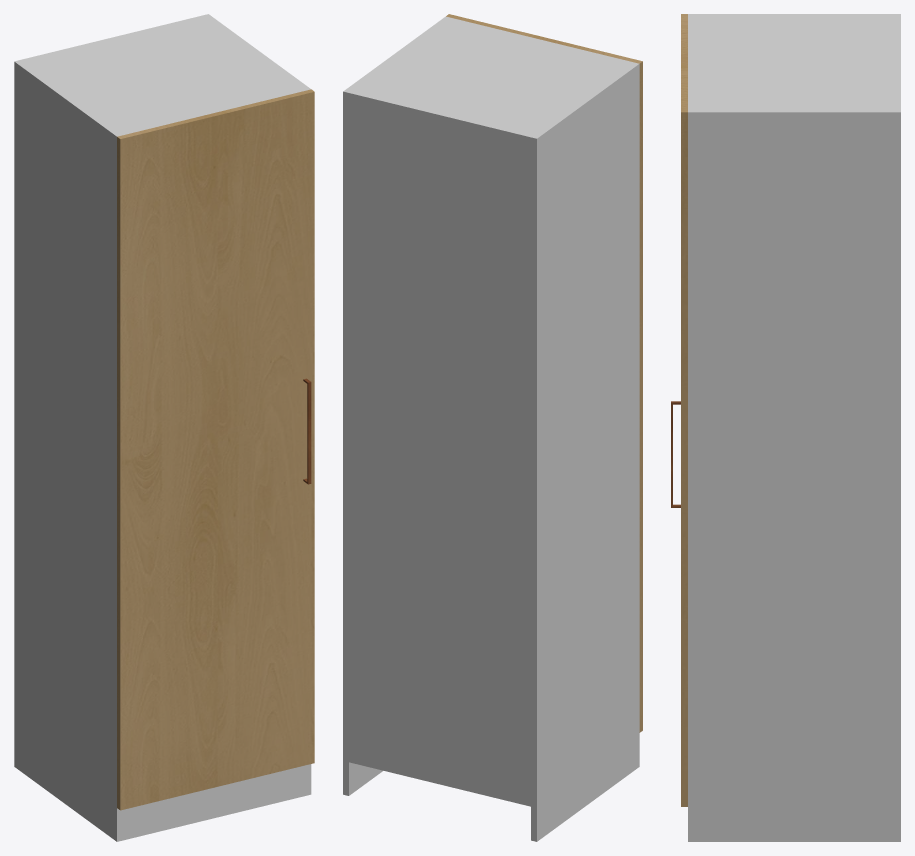
File: wardrobe-600-l.glb
3 renders of one model, left to right at view 1: azimuth 30°, elevation 25°; view 2: azimuth 150°, elevation 25°; view 3: azimuth 270°, elevation 25°, orthographic. The views are drawn at different scales.
Visible parts, largest first — view 1: Mesh_5_group, Mesh_0_group, Mesh_1_group; view 2: Mesh_0_group, Mesh_1_group, Mesh_5_group; view 3: Mesh_0_group, Mesh_1_group, Mesh_5_group.
Part boxes in pixels (x1,y1,x2,y2): Mesh_5_group: (117, 89, 314, 810); Mesh_0_group: (14, 14, 310, 807); Mesh_1_group: (14, 733, 311, 841); Mesh_0_group: (343, 16, 639, 807); Mesh_1_group: (343, 733, 639, 841); Mesh_5_group: (446, 14, 642, 732); Mesh_0_group: (688, 14, 900, 806); Mesh_1_group: (688, 807, 900, 841); Mesh_5_group: (681, 14, 687, 806).
Bounding box in the file's own units: 0.6 × 2.08 × 0.5934.
Materials: 3 (2 with a texture image).
